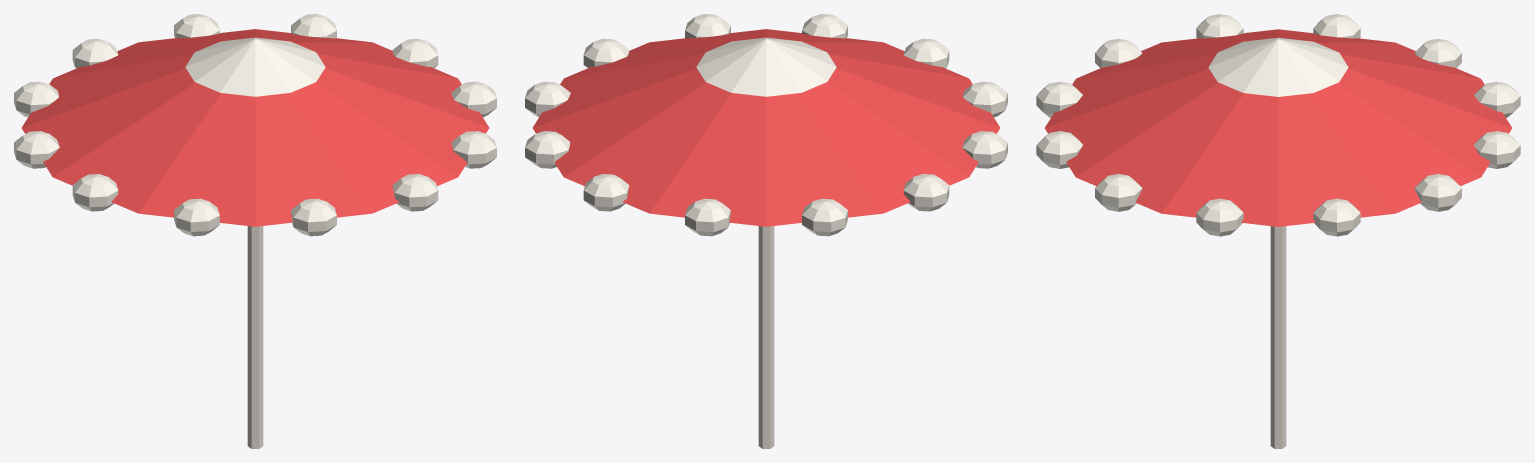
The model's file is BeachUmbrella.fbx.
3 views of the same model, side by side, from view 1: azimuth 30°, elevation 25°; view 2: azimuth 150°, elevation 25°; view 3: azimuth 270°, elevation 25° (orthographic).
Parts seen in each view (by area): view 1: Canvas, Trim, Pole; view 2: Canvas, Trim, Pole; view 3: Canvas, Trim, Pole.
Boxes of the visible parts, x1=… form: Canvas: x1=21, y1=29, x2=489, y2=226; Trim: x1=14, y1=14, x2=496, y2=236; Pole: x1=247, y1=226, x2=263, y2=448; Canvas: x1=532, y1=29, x2=1000, y2=226; Trim: x1=525, y1=14, x2=1007, y2=236; Pole: x1=758, y1=226, x2=774, y2=448; Canvas: x1=1044, y1=29, x2=1512, y2=226; Trim: x1=1036, y1=14, x2=1520, y2=236; Pole: x1=1270, y1=226, x2=1286, y2=448.
Bounding box in the file's own units: 3.11 × 2.88 × 3.11.
